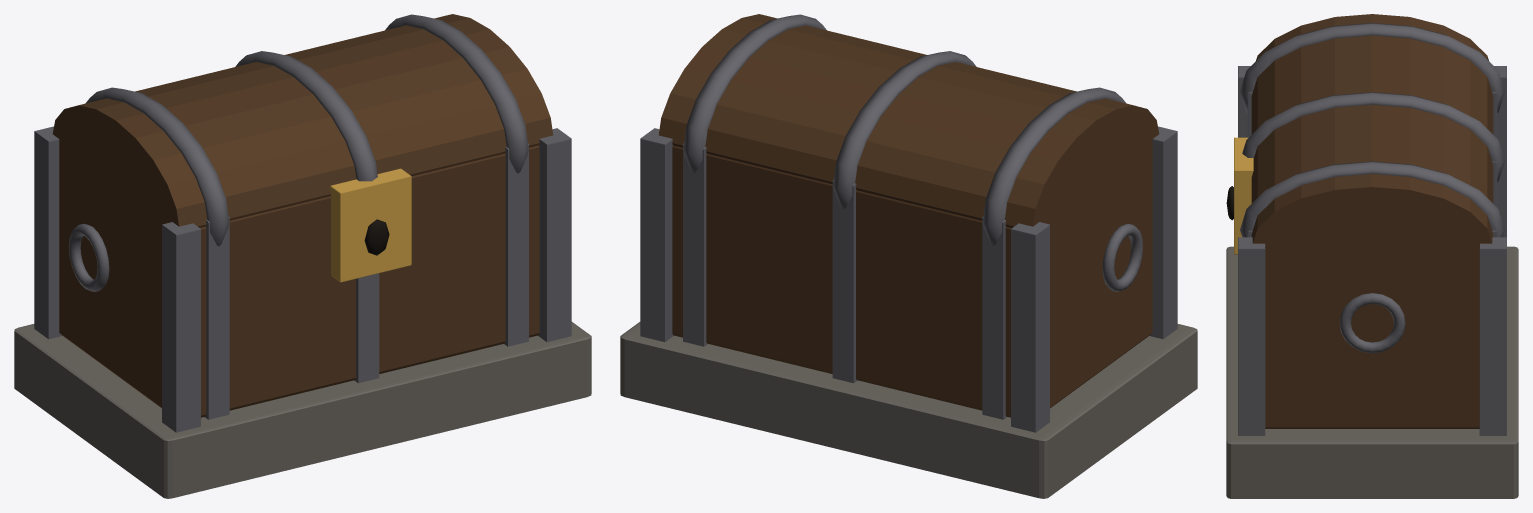
The model's file is bankkiste.glb.
3 renders of one model, left to right at view 1: azimuth 30°, elevation 25°; view 2: azimuth 150°, elevation 25°; view 3: azimuth 270°, elevation 25°, orthographic. The views are drawn at different scales.
Parts seen in each view (by area): view 1: Cube; view 2: Cube; view 3: Cube.
Boxes of the visible parts, box(x1,y1,x2,y2) form: Cube: box(14, 14, 591, 498); Cube: box(620, 14, 1197, 498); Cube: box(1226, 14, 1518, 498).
Bounding box in the file's own units: 1.23 × 0.8704 × 0.75.
